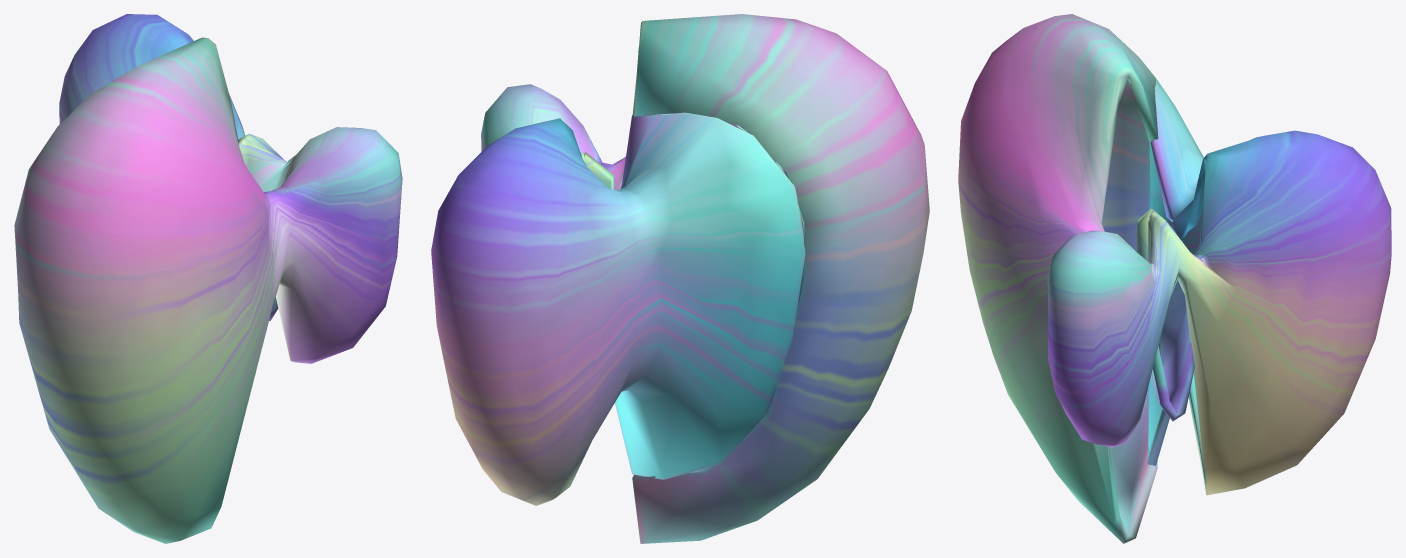
Rendered from randomshape8.glb.
3 views of the same model, side by side, from view 1: azimuth 30°, elevation 25°; view 2: azimuth 150°, elevation 25°; view 3: azimuth 270°, elevation 25° (orthographic). The views are drawn at different scales.
Parts seen in each view (by area): view 1: SuperShapesMesh.008; view 2: SuperShapesMesh.008; view 3: SuperShapesMesh.008.
Boxes of the visible parts, x1,y1,x2,y2 form: SuperShapesMesh.008: [14, 14, 402, 543]; SuperShapesMesh.008: [431, 14, 929, 543]; SuperShapesMesh.008: [958, 14, 1391, 543].
Bounding box in the file's own units: 4.8 × 5.91 × 4.85.
1 material, 1 textured.
